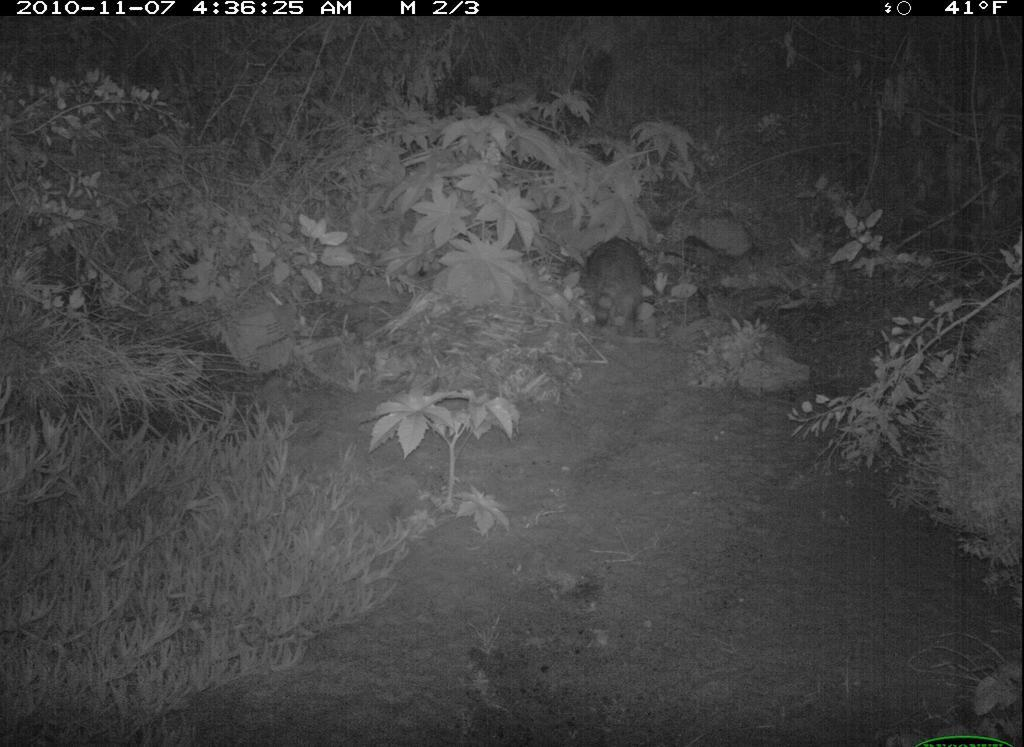raccoon: (580, 236, 662, 344)
